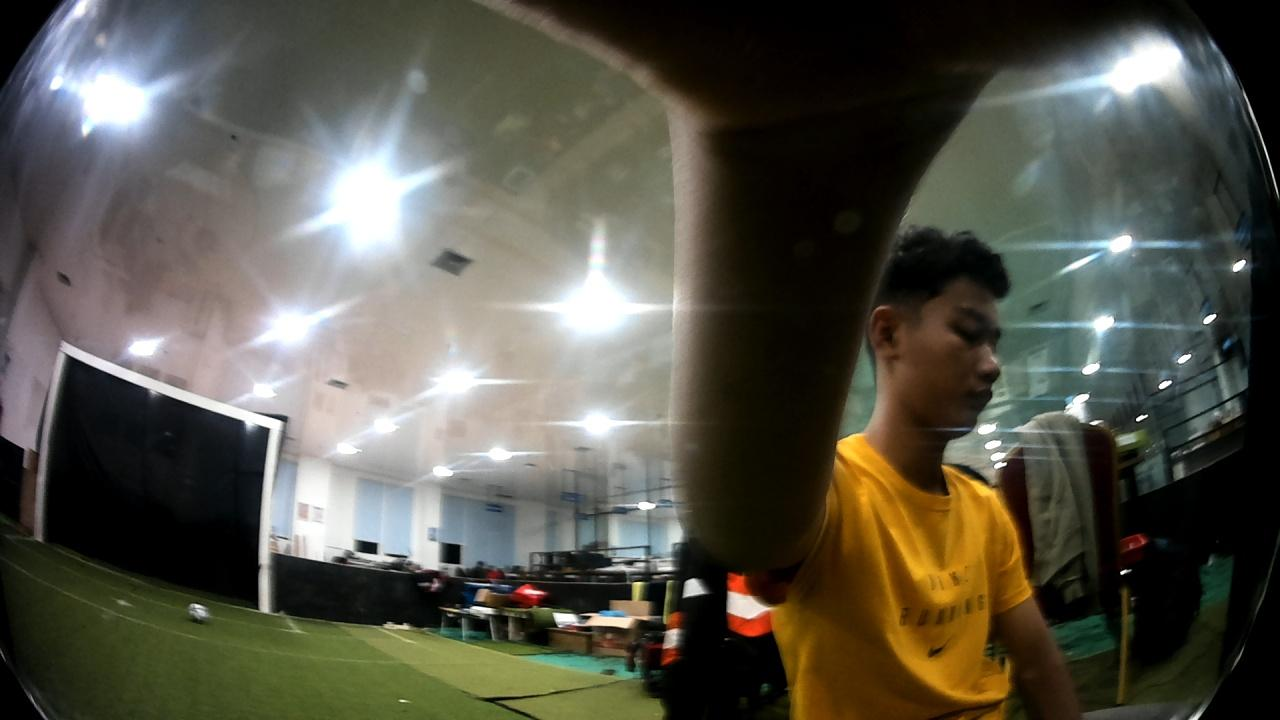ball: (186, 599, 211, 626)
